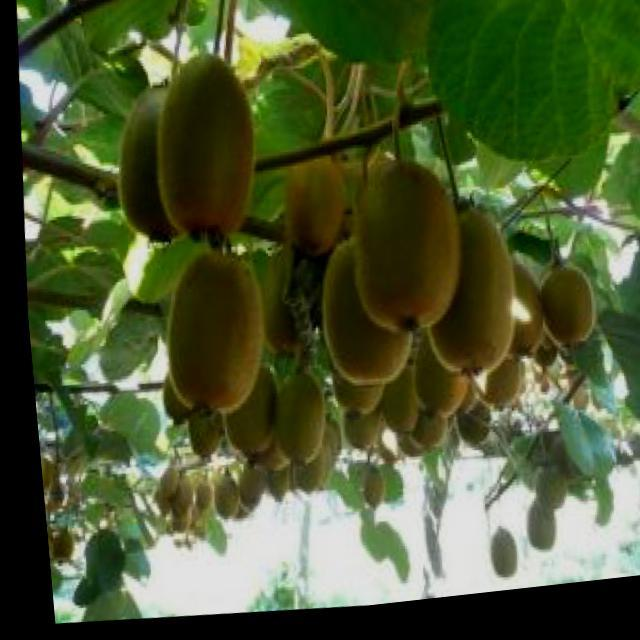kiwi: (141, 51, 261, 255), (339, 166, 460, 343), (154, 251, 264, 426), (415, 210, 513, 387), (310, 240, 410, 394), (107, 80, 190, 249), (465, 253, 541, 370), (316, 322, 383, 426), (252, 248, 313, 360), (279, 158, 342, 262), (212, 366, 272, 461), (400, 337, 461, 427), (529, 272, 590, 359), (264, 376, 321, 468), (172, 386, 215, 465), (331, 395, 377, 460), (372, 371, 412, 441), (149, 362, 190, 429), (281, 443, 320, 502), (473, 367, 517, 418), (511, 506, 548, 562), (224, 459, 258, 514), (476, 534, 508, 591), (522, 474, 559, 521), (201, 472, 231, 526), (252, 453, 282, 507), (156, 473, 187, 516), (350, 464, 375, 515), (148, 465, 171, 502)
